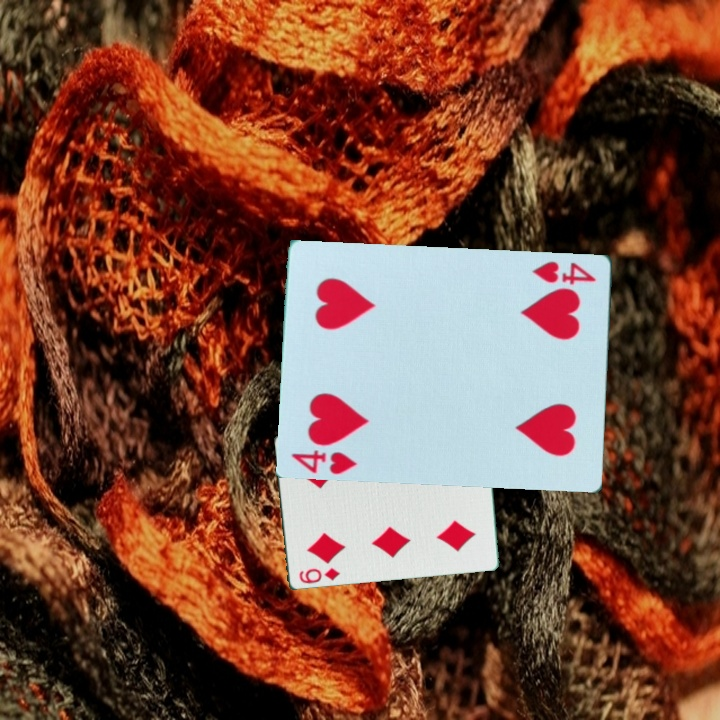4h: (289, 446, 361, 477), (530, 257, 600, 287)
6d: (295, 565, 342, 587)
